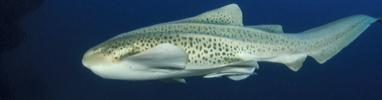Shark -Selachimorpha-: (80, 1, 382, 82)
